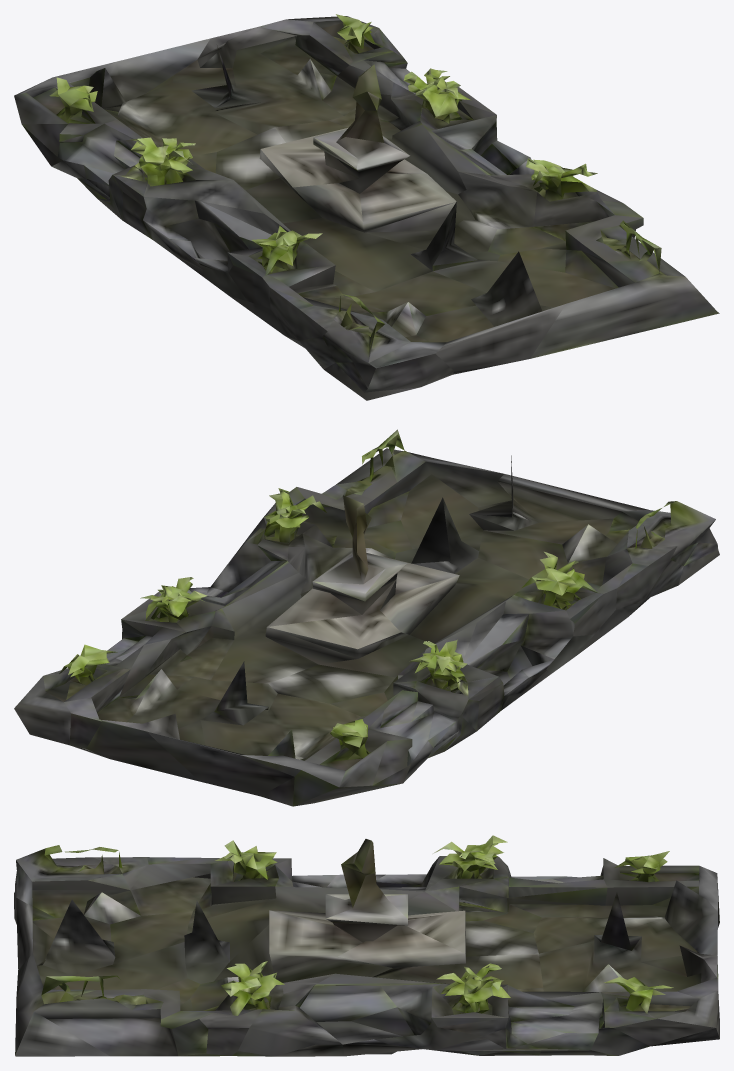
File: taman_depan_ballram_lod2.glb
3 renders of one model, top to bottom at view 1: azimuth 30°, elevation 25°; view 2: azimuth 150°, elevation 25°; view 3: azimuth 270°, elevation 25°, orthographic. The views are drawn at different scales.
Visible parts, largest first — view 1: tripo_node_6f897591-90fe-45d0-8e92-c9ea967e309f; view 2: tripo_node_6f897591-90fe-45d0-8e92-c9ea967e309f; view 3: tripo_node_6f897591-90fe-45d0-8e92-c9ea967e309f.
Boxes of the visible parts, left/top/right/bottom form: tripo_node_6f897591-90fe-45d0-8e92-c9ea967e309f: left=14, top=14, right=719, bottom=400; tripo_node_6f897591-90fe-45d0-8e92-c9ea967e309f: left=14, top=429, right=719, bottom=806; tripo_node_6f897591-90fe-45d0-8e92-c9ea967e309f: left=14, top=835, right=719, bottom=1056.
Bounding box in the file's own units: 0.5525 × 0.234 × 0.9987.
Materials: 1 (1 with a texture image).
